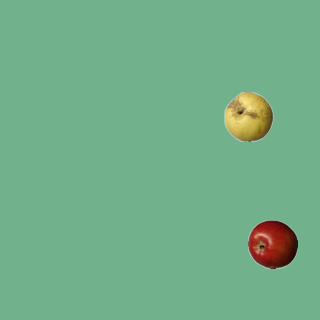Apple Braeburn: (247, 219, 297, 269)
Apple Golden 1: (223, 91, 273, 141)
